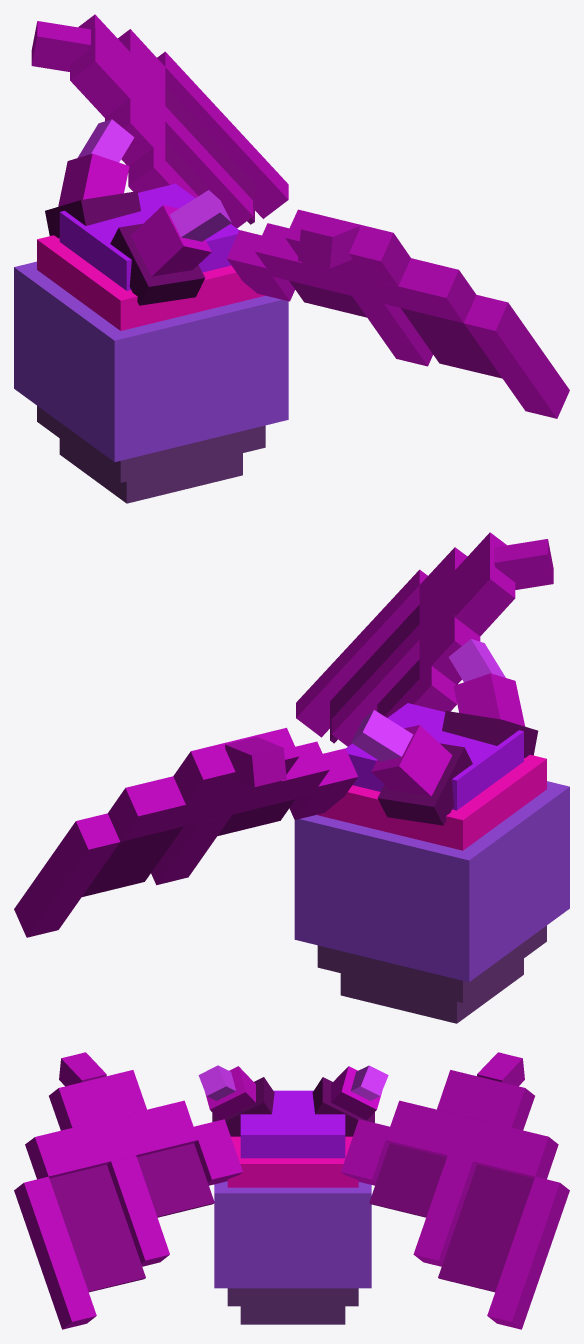
Rendered from egg_demon.obj.
The picture shows the model from 3 angles, top to bottom: view 1: azimuth 30°, elevation 25°; view 2: azimuth 150°, elevation 25°; view 3: azimuth 270°, elevation 25°; orthographic projection. The views are drawn at different scales.
Visible parts, largest first — view 1: E2U, E3, E1U, E2D, E1D; view 2: E2U, E3, E1U, E2D, E1D; view 3: E2U, E3, E1U, E2D, E1D.
Boxes of the visible parts, x1,y1,x2,y2 form: E2U: (31, 14, 569, 418); E3: (14, 261, 288, 462); E1U: (45, 119, 239, 305); E2D: (37, 406, 265, 482); E1D: (59, 438, 242, 503); E2U: (14, 532, 553, 937); E3: (294, 781, 569, 981); E1U: (346, 639, 538, 825); E2D: (317, 925, 546, 1002); E1D: (340, 958, 523, 1023); E2U: (14, 1052, 569, 1329); E3: (214, 1181, 371, 1288); E1U: (198, 1065, 388, 1158); E2D: (227, 1288, 358, 1306); E1D: (240, 1306, 345, 1324).
Size of the model in its own units: 9.29 by 8 by 15.7.
